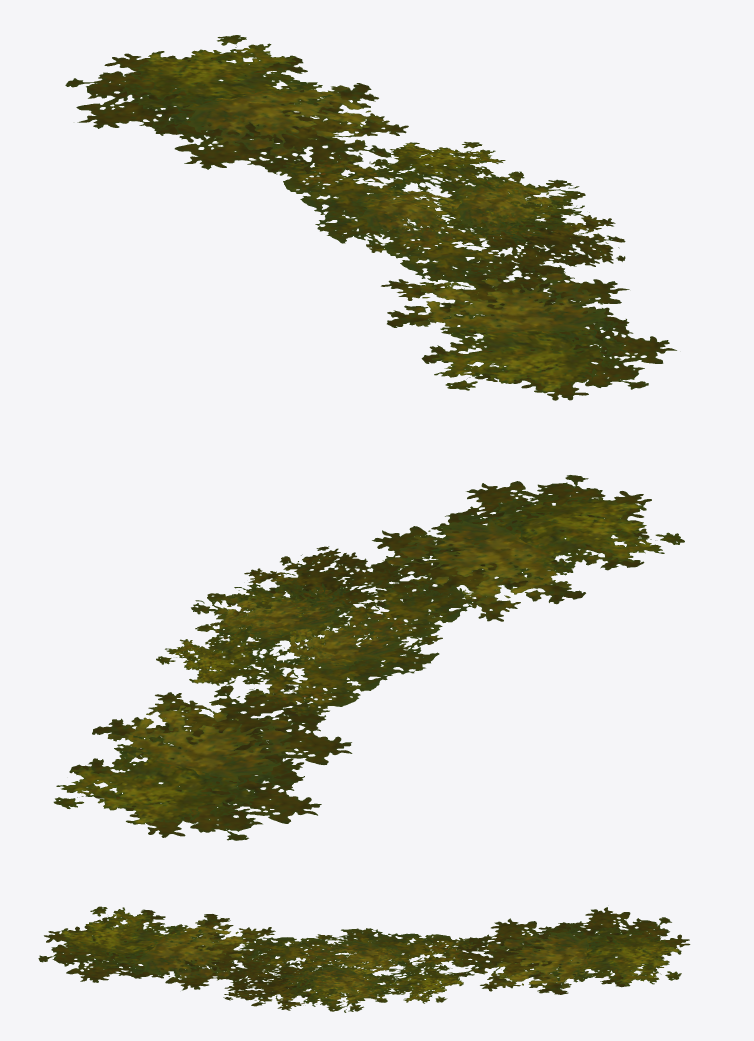
Rendered from fxmg_zhiwu5.FBX.
3 renders of one model, top to bottom at view 1: azimuth 30°, elevation 25°; view 2: azimuth 150°, elevation 25°; view 3: azimuth 270°, elevation 25°, orthographic. The views are drawn at different scales.
Visible parts, largest first — view 1: KLMSM_zhiwu5; view 2: KLMSM_zhiwu5; view 3: KLMSM_zhiwu5.
Boxes of the visible parts, x1=… form: KLMSM_zhiwu5: x1=65, y1=35, x2=676, y2=400; KLMSM_zhiwu5: x1=53, y1=475, x2=684, y2=840; KLMSM_zhiwu5: x1=38, y1=906, x2=690, y2=1012.
Size of the model in its own units: 1108 by 20.35 by 2443.
